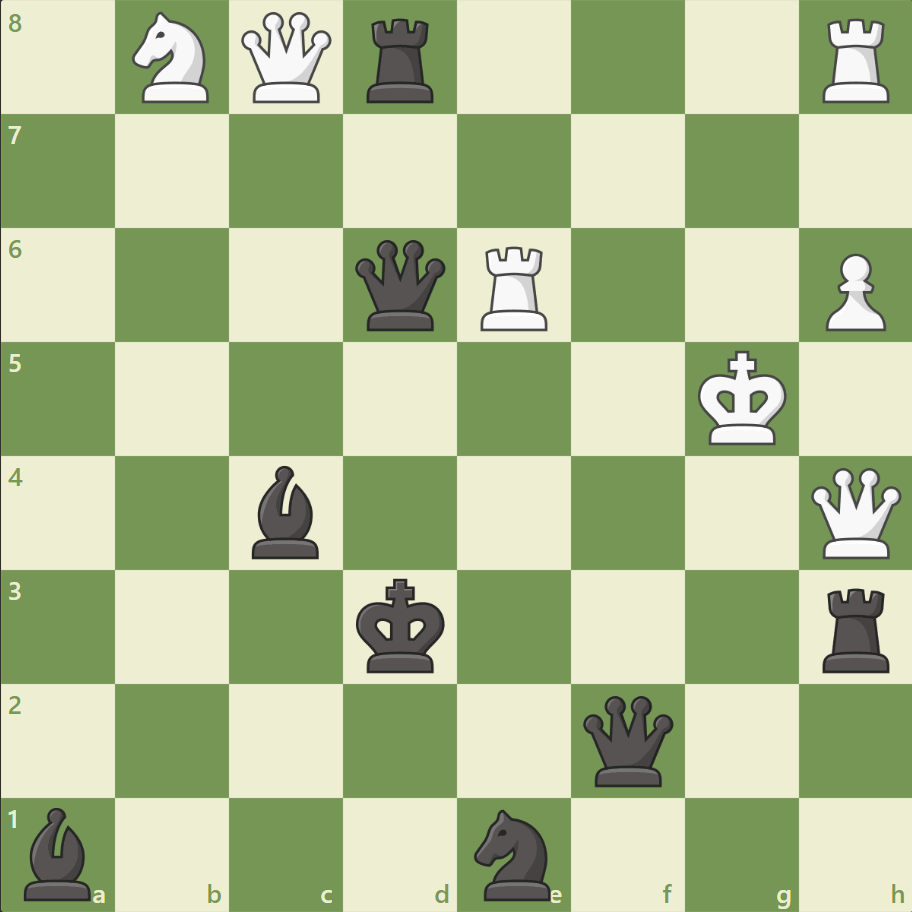K: (692, 344, 792, 452)
N: (124, 7, 222, 110)
P: (815, 246, 889, 337)
Q: (237, 9, 336, 108), (805, 463, 904, 562)
R: (814, 12, 897, 109), (473, 239, 556, 336)
b: (244, 460, 328, 563), (17, 801, 101, 904)
k: (351, 571, 451, 679)
n: (465, 802, 562, 904)
q: (351, 236, 450, 335), (578, 690, 677, 789)
r: (814, 579, 897, 676), (360, 12, 442, 109)
